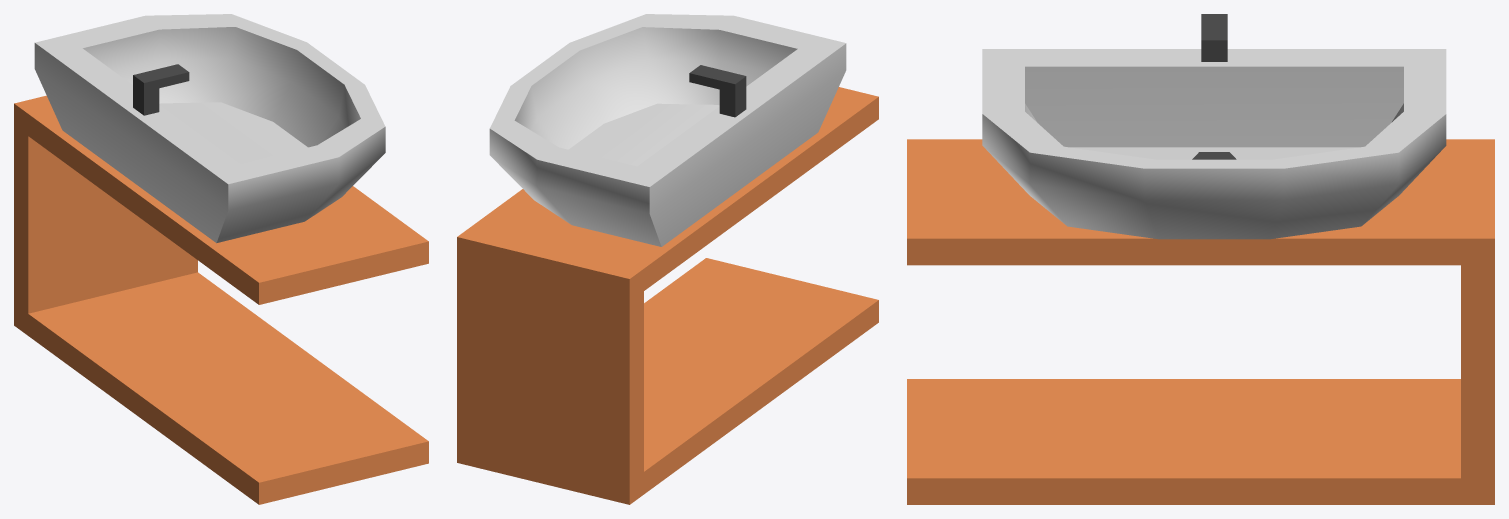
The model's file is Lavamanos.fbx.
3 views of the same model, side by side, from view 1: azimuth 30°, elevation 25°; view 2: azimuth 150°, elevation 25°; view 3: azimuth 270°, elevation 25° (orthographic). The views are drawn at different scales.
Parts seen in each view (by area): view 1: Lavamanos; view 2: Lavamanos; view 3: Lavamanos.
Part boxes in pixels (left/top/right/bottom): Lavamanos: left=14, top=14, right=428, bottom=504; Lavamanos: left=457, top=14, right=878, bottom=504; Lavamanos: left=907, top=14, right=1494, bottom=504.
Size of the model in its own units: 48.31 by 74.34 by 100.
